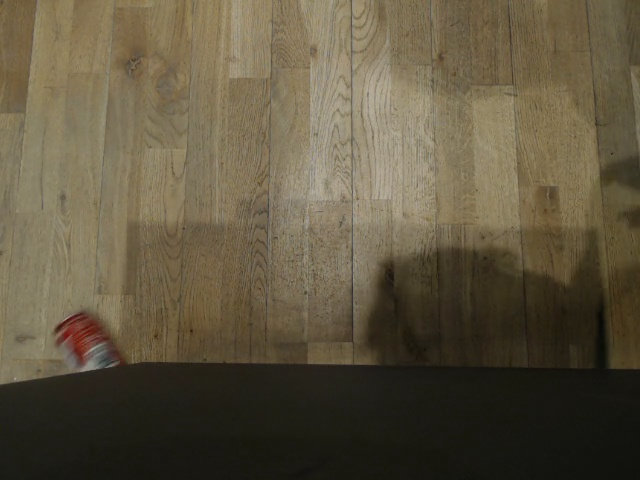cola: (53, 311, 118, 379)
